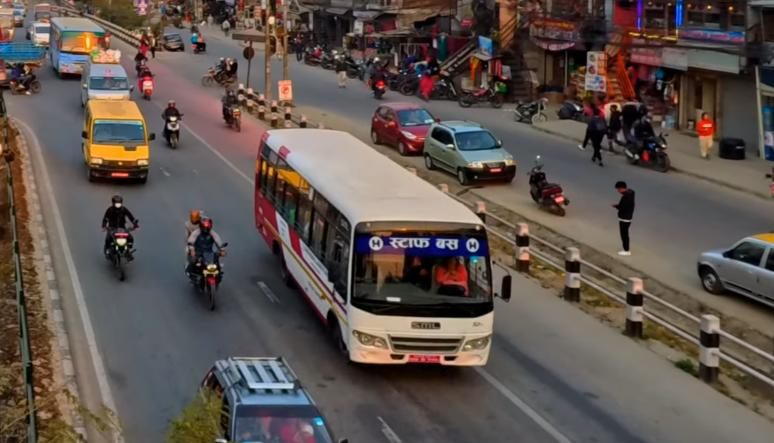bus: (240, 106, 506, 392)
school_bus: (79, 95, 151, 187)
